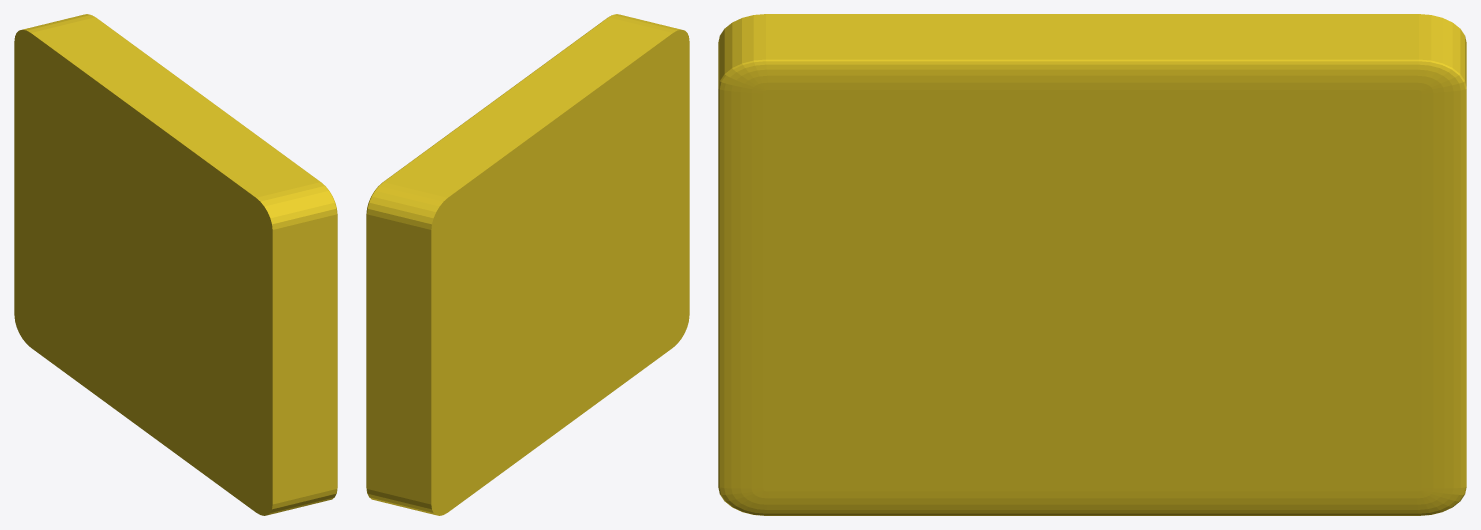
File: SM_House_Plate.fbx
3 renders of one model, left to right at view 1: azimuth 30°, elevation 25°; view 2: azimuth 150°, elevation 25°; view 3: azimuth 270°, elevation 25°, orthographic. The views are drawn at different scales.
Parts seen in each view (by area): view 1: House_Plate; view 2: House_Plate; view 3: House_Plate.
Boxes of the visible parts, x1,y1,x2,y2 form: House_Plate: (14,14,337,515); House_Plate: (366,14,689,515); House_Plate: (718,14,1466,515).
Size of the model in its own units: 30.63 by 135 by 200.
